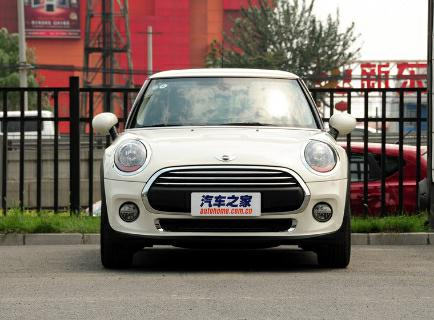MINI: (104, 66, 354, 274)
